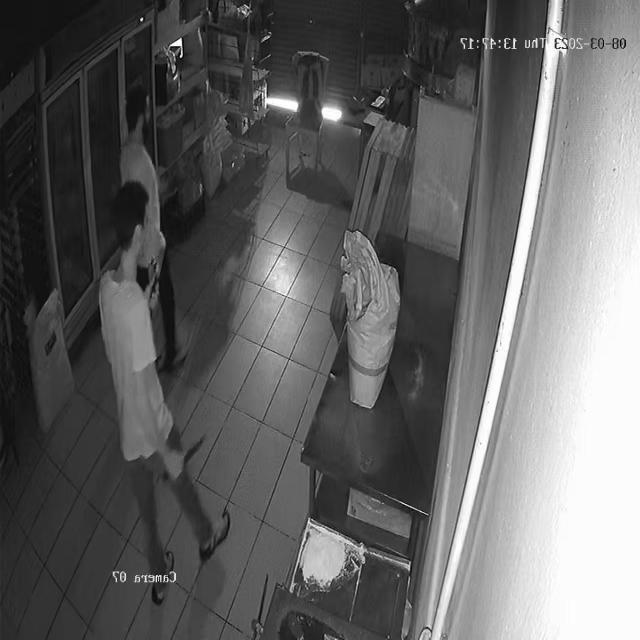Knife: (166, 429, 222, 488)
